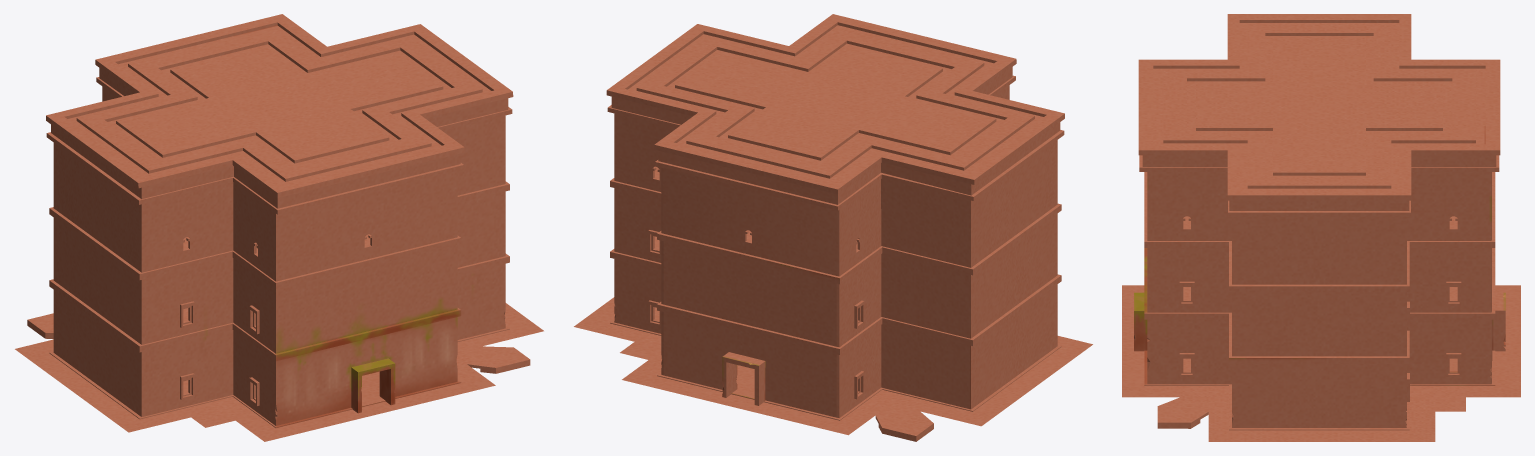
Rendered from Lalibela (3).fbx.
3 renders of one model, left to right at view 1: azimuth 30°, elevation 25°; view 2: azimuth 150°, elevation 25°; view 3: azimuth 270°, elevation 25°, orthographic.
Parts seen in each view (by area): view 1: Lalibela_Building.001; view 2: Lalibela_Building.001; view 3: Lalibela_Building.001.
Boxes of the visible parts, x1,y1,x2,y2 form: Lalibela_Building.001: (15, 14, 543, 441); Lalibela_Building.001: (574, 14, 1092, 441); Lalibela_Building.001: (1122, 14, 1520, 441).
Bounding box in the file's own units: 3397 × 1904 × 2844.
1 material, 1 textured.
